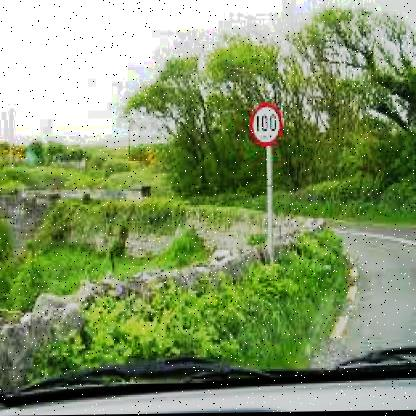Speed Limit -100-: (248, 102, 286, 150)
